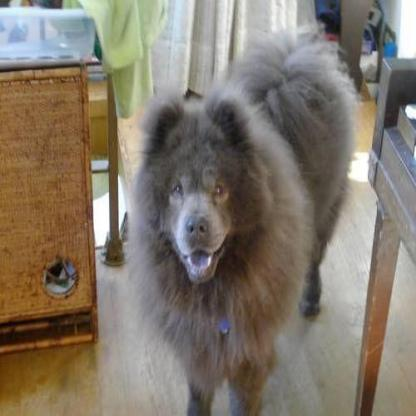chow: (123, 21, 358, 414)
